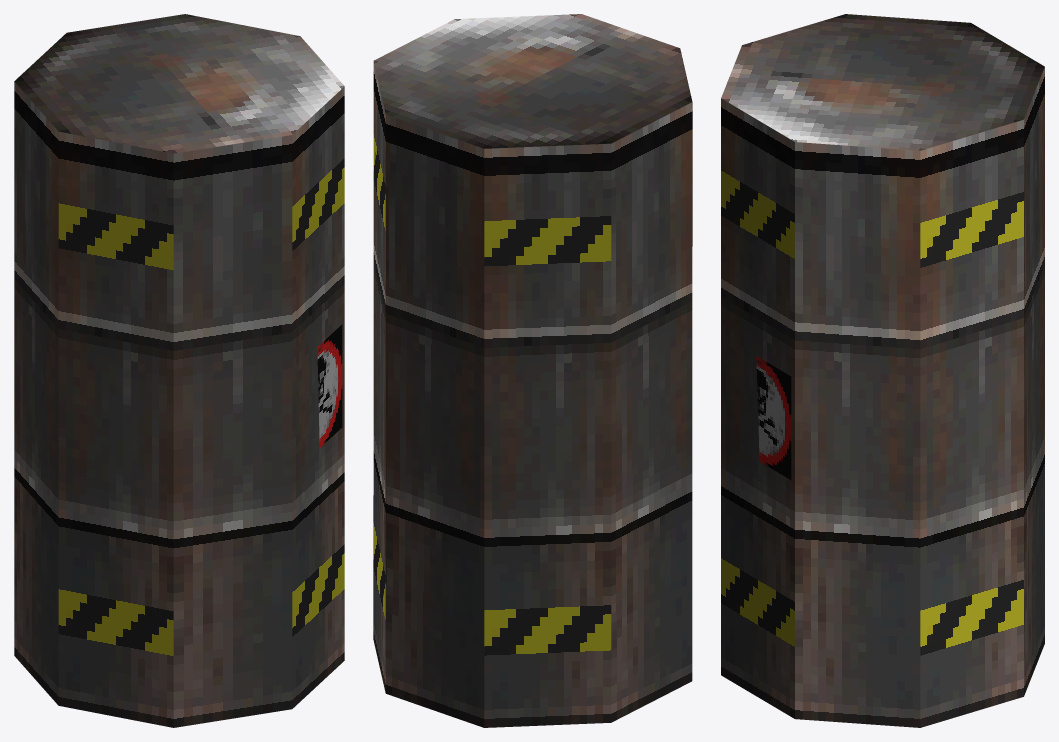
Rendered from primary_060.glb.
3 renders of one model, left to right at view 1: azimuth 30°, elevation 25°; view 2: azimuth 150°, elevation 25°; view 3: azimuth 270°, elevation 25°, orthographic.
Parts seen in each view (by area): view 1: Object; view 2: Object; view 3: Object.
Boxes of the visible parts, x1=… form: Object: x1=14, y1=14, x2=344, y2=727; Object: x1=373, y1=14, x2=692, y2=727; Object: x1=721, y1=14, x2=1044, y2=727.
Bounding box in the file's own units: 0.7604 × 1.5 × 0.7604.
9 materials, 9 textured.
